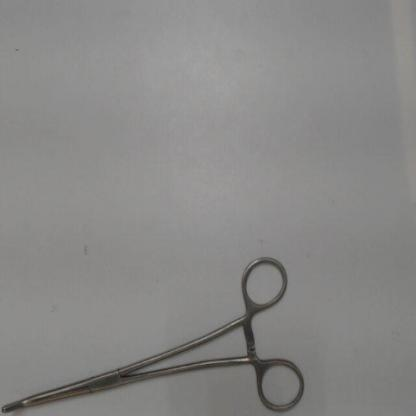Lahey Forceps: (1, 245, 310, 415)
